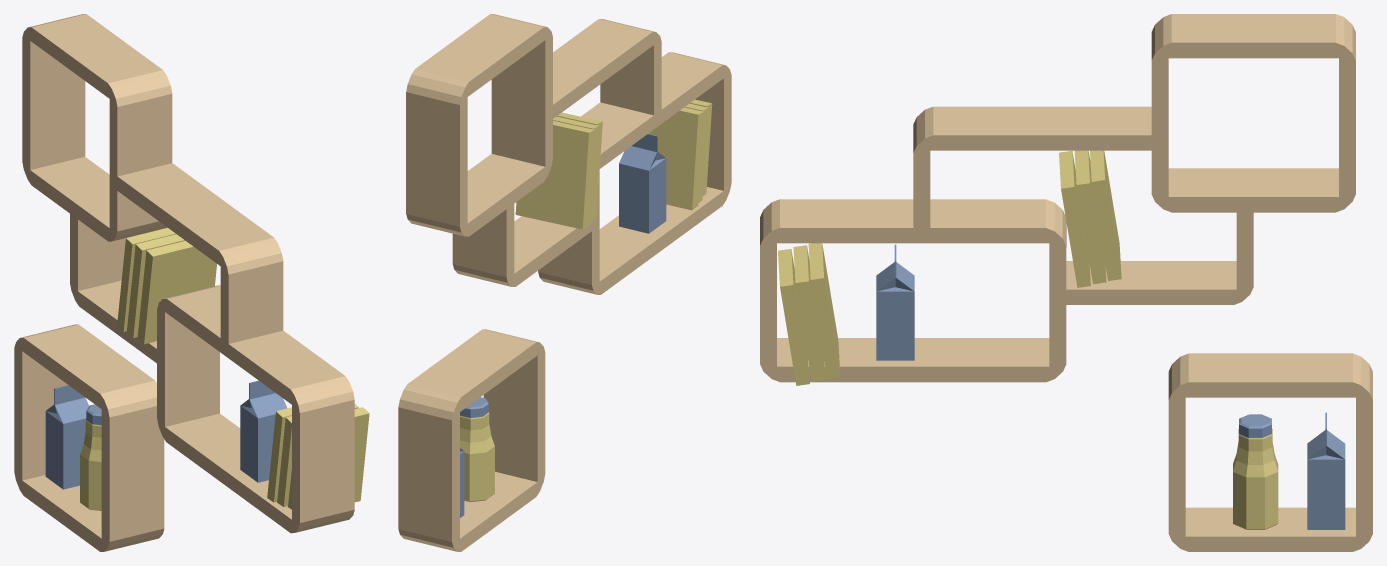
The model's file is Furn7_bookcase_right_color1_joined.fbx.
3 views of the same model, side by side, from view 1: azimuth 30°, elevation 25°; view 2: azimuth 150°, elevation 25°; view 3: azimuth 270°, elevation 25° (orthographic). The views are drawn at different scales.
Visible parts, largest first — view 1: Plane.087; view 2: Plane.087; view 3: Plane.087.
Part boxes in pixels (left/top/right/bottom): Plane.087: left=14, top=14, right=369, bottom=551; Plane.087: left=398, top=14, right=731, bottom=551; Plane.087: left=760, top=14, right=1372, bottom=551.
Size of the model in its own units: 54.94 by 264 by 288.
